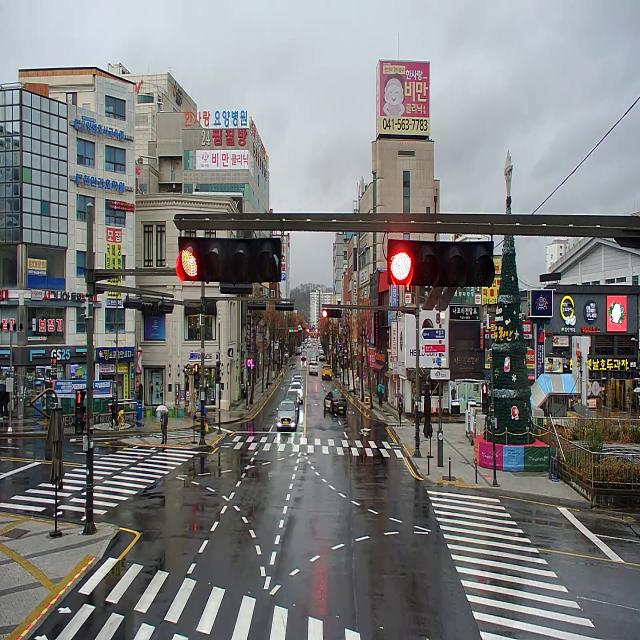Car: (276, 398, 298, 428), (323, 390, 347, 413), (284, 395, 298, 418), (289, 382, 303, 402), (288, 389, 300, 402), (322, 364, 332, 379), (309, 362, 318, 374), (292, 379, 304, 386), (300, 349, 307, 360), (291, 372, 301, 378), (319, 352, 325, 362), (295, 347, 301, 355), (300, 341, 305, 349), (292, 376, 303, 379), (319, 349, 324, 354), (307, 342, 311, 347), (311, 358, 315, 362)
